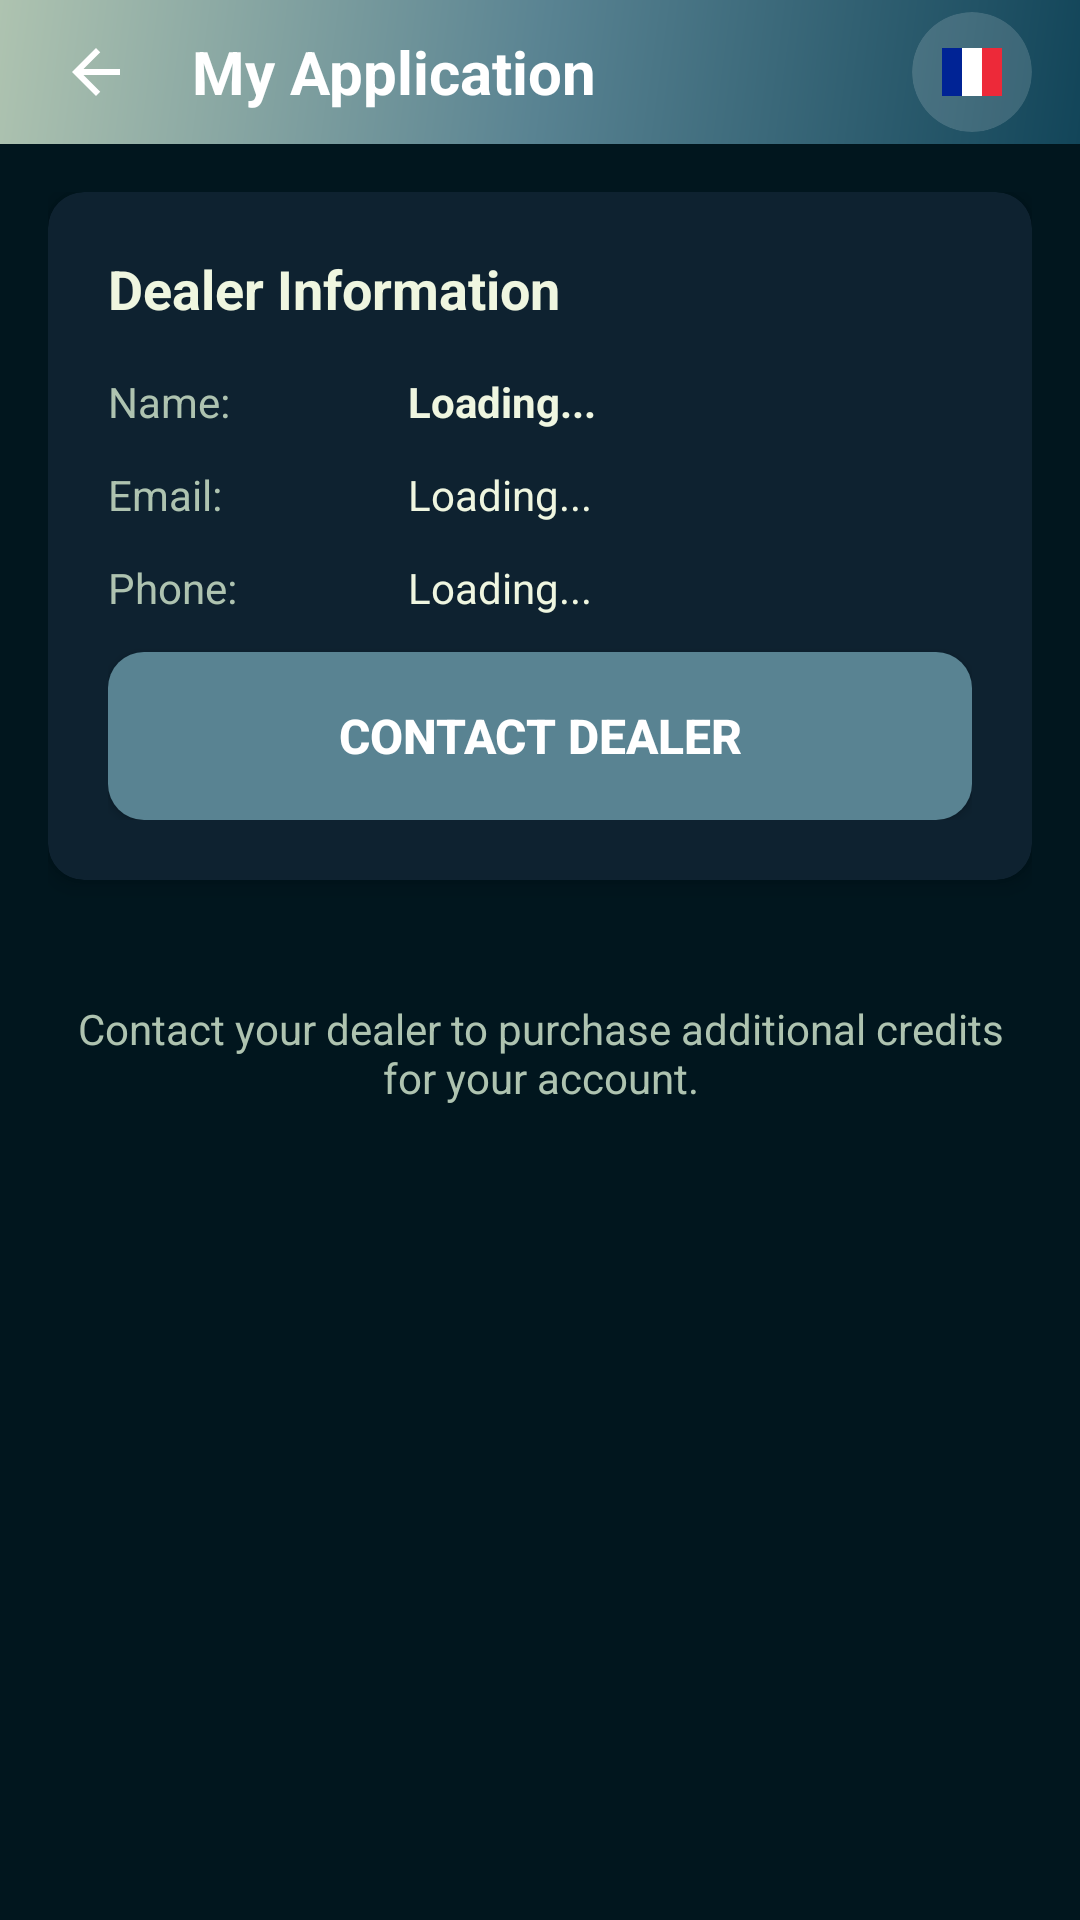

Icon bounding boxes for this 1080px×1920px phone screenshot, format (x1, y1, x2, y2):
back: (72, 48, 120, 96)
flag fr: (942, 48, 1002, 96)
